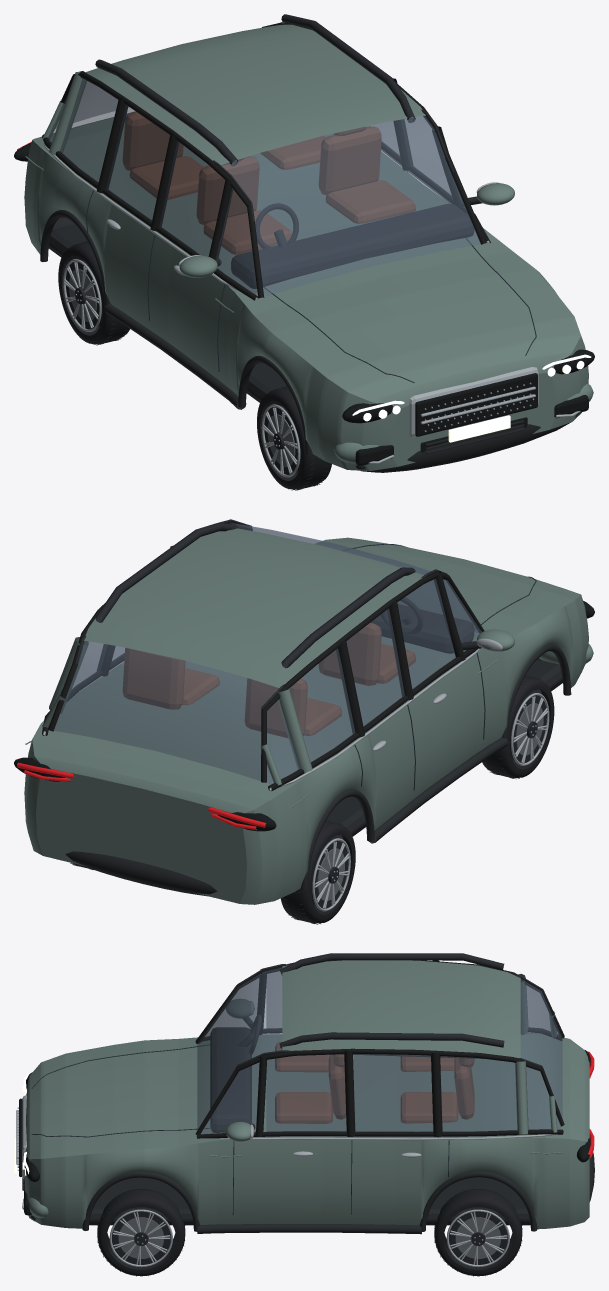
Rendered from Rheydt_SUV_Metallic.glb.
3 renders of one model, top to bottom at view 1: azimuth 30°, elevation 25°; view 2: azimuth 150°, elevation 25°; view 3: azimuth 270°, elevation 25°, orthographic. The views are drawn at different scales.
Parts seen in each view (by area): view 1: Haube_und_Schulterlinie, Dach_und_Scheibenprofil, Karosserie_Seite, Dachblech, Armaturenbrett, Seitenscheibe_1, Rad_Vorne_L_Mesh, Seitenscheibe_2, Rad_Hinten_L_Mesh, Grilleinsatz, Seitenscheibe_3, Sitzlehne.002 (+31 smaller); view 2: Haube_und_Schulterlinie, Dachblech, Karosserie_Seite, Dach_und_Scheibenprofil, Heckabschluss, Seitenscheibe_3, Rad_Hinten_L_Mesh, Seitenscheibe_2, Rad_Vorne_L_Mesh, Seitenscheibe_1, Sitzlehne.003, Heckdiffusor (+25 smaller); view 3: Haube_und_Schulterlinie, Karosserie_Seite.001, Dachblech, Dach_und_Scheibenprofil, Seitenscheibe_1.001, Seitenscheibe_2.001, Rad_Vorne_R_Mesh, Rad_Hinten_R_Mesh, Seitenscheibe_3.001, Armaturenbrett, Unterboden, Fensterrahmen.003 (+25 smaller).
Boxes of the visible parts, <box> form: Haube_und_Schulterlinie: <box>32,113,580,408</box>; Dach_und_Scheibenprofil: <box>56,81,480,297</box>; Karosserie_Seite: <box>24,140,397,470</box>; Dachblech: <box>85,24,425,165</box>; Armaturenbrett: <box>231,203,474,288</box>; Seitenscheibe_1: <box>159,141,225,256</box>; Rad_Vorne_L_Mesh: <box>257,386,331,490</box>; Seitenscheibe_2: <box>106,105,169,220</box>; Rad_Hinten_L_Mesh: <box>58,241,129,345</box>; Grilleinsatz: <box>415,373,537,436</box>; Seitenscheibe_3: <box>60,78,118,182</box>; Sitzlehne.002: <box>318,126,381,194</box>; Haube_und_Schulterlinie: <box>32,537,580,813</box>; Dachblech: <box>84,528,423,687</box>; Karosserie_Seite: <box>240,595,588,904</box>; Dach_und_Scheibenprofil: <box>53,523,478,780</box>; Heckabschluss: <box>36,769,246,903</box>; Seitenscheibe_3: <box>289,648,355,762</box>; Rad_Hinten_L_Mesh: <box>280,820,355,924</box>; Seitenscheibe_2: <box>346,608,404,726</box>; Rad_Vorne_L_Mesh: <box>482,675,554,779</box>; Seitenscheibe_1: <box>397,578,455,689</box>; Sitzlehne.003: <box>122,648,185,709</box>; Heckdiffusor: <box>65,851,217,896</box>; Haube_und_Schulterlinie: <box>25,1033,589,1159</box>; Karosserie_Seite.001: <box>25,1138,589,1229</box>; Dachblech: <box>282,960,520,1057</box>; Dach_und_Scheibenprofil: <box>197,968,562,1129</box>; Seitenscheibe_1.001: <box>266,1054,346,1131</box>; Seitenscheibe_2.001: <box>354,1054,433,1131</box>; Rad_Vorne_R_Mesh: <box>97,1188,185,1276</box>; Rad_Hinten_R_Mesh: <box>434,1188,522,1276</box>; Seitenscheibe_3.001: <box>440,1056,517,1131</box>; Armaturenbrett: <box>210,1027,251,1132</box>; Unterboden: <box>89,1177,530,1225</box>; Fensterrahmen.003: <box>195,1048,564,1134</box>.
Size of the model in its own units: 2.33 by 1.85 by 4.16.
